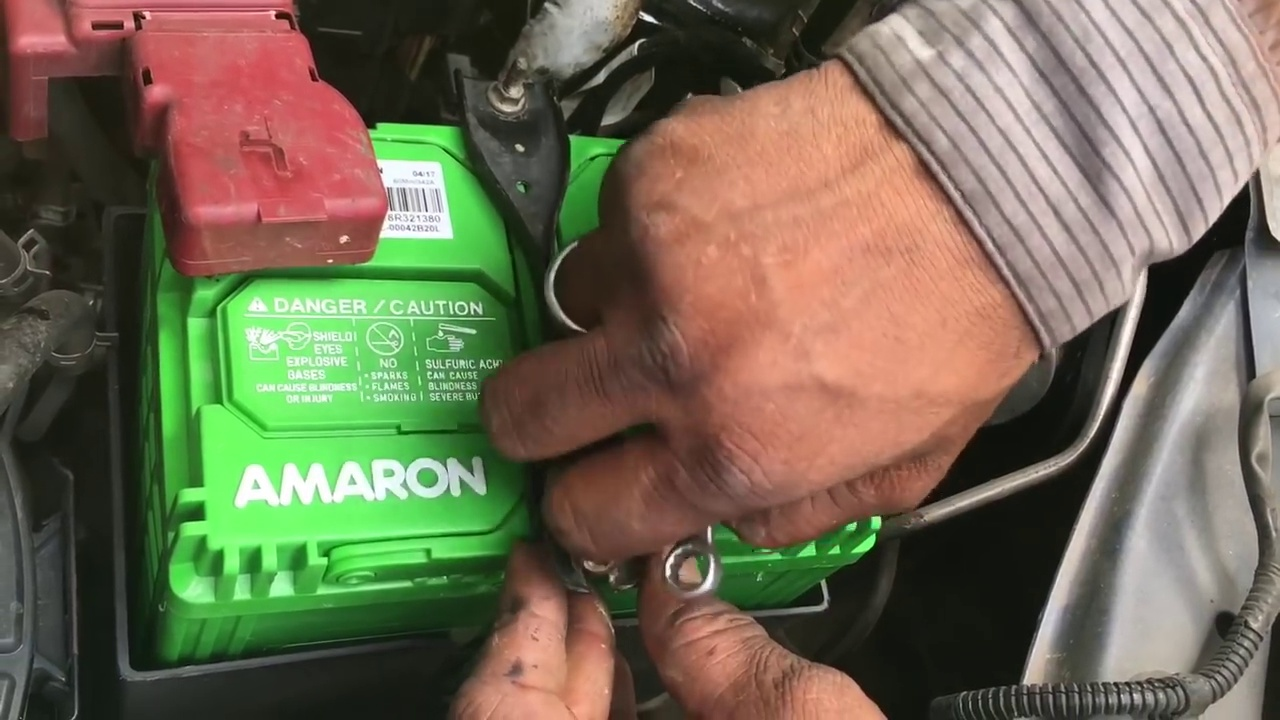battery: (136, 95, 866, 609)
pos_connected: (8, 5, 402, 286)
